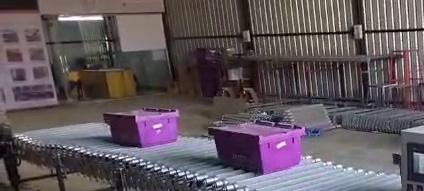box: (209, 122, 304, 173), (103, 108, 178, 147)
